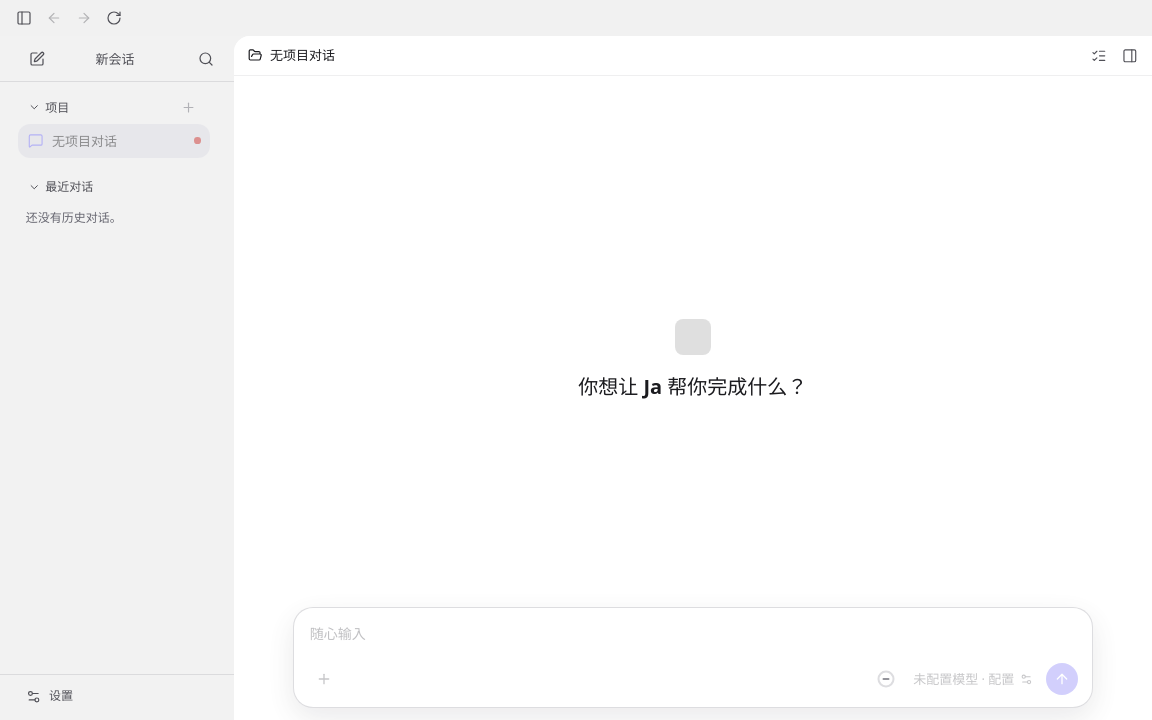
Scenario: Ja desktop shell v1 › retries a failed runtime connection from the titlebar without resuming a turn
Click the button named "重新连接" at coordinates (114, 18), box [100,4,128,32]
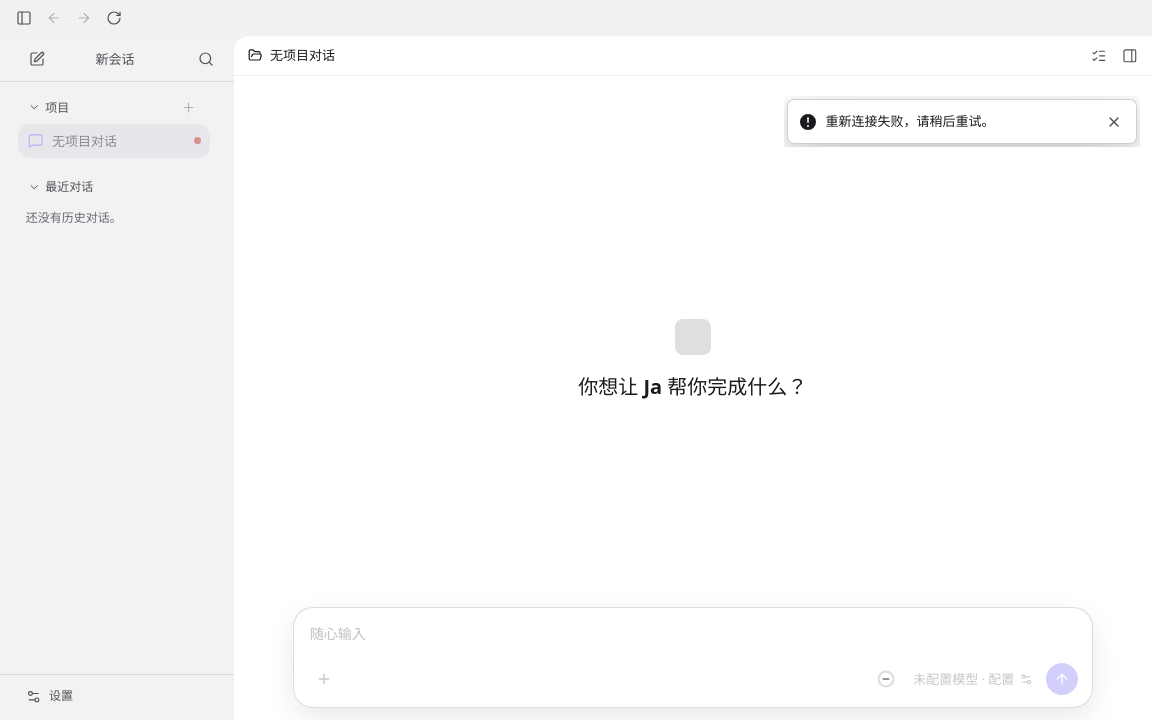
Expected: the text "重新连接失败，请稍后重试。" is shown, [825,112,994,130]
Click the button named "重新连接" at coordinates (114, 18), box [100,4,128,32]
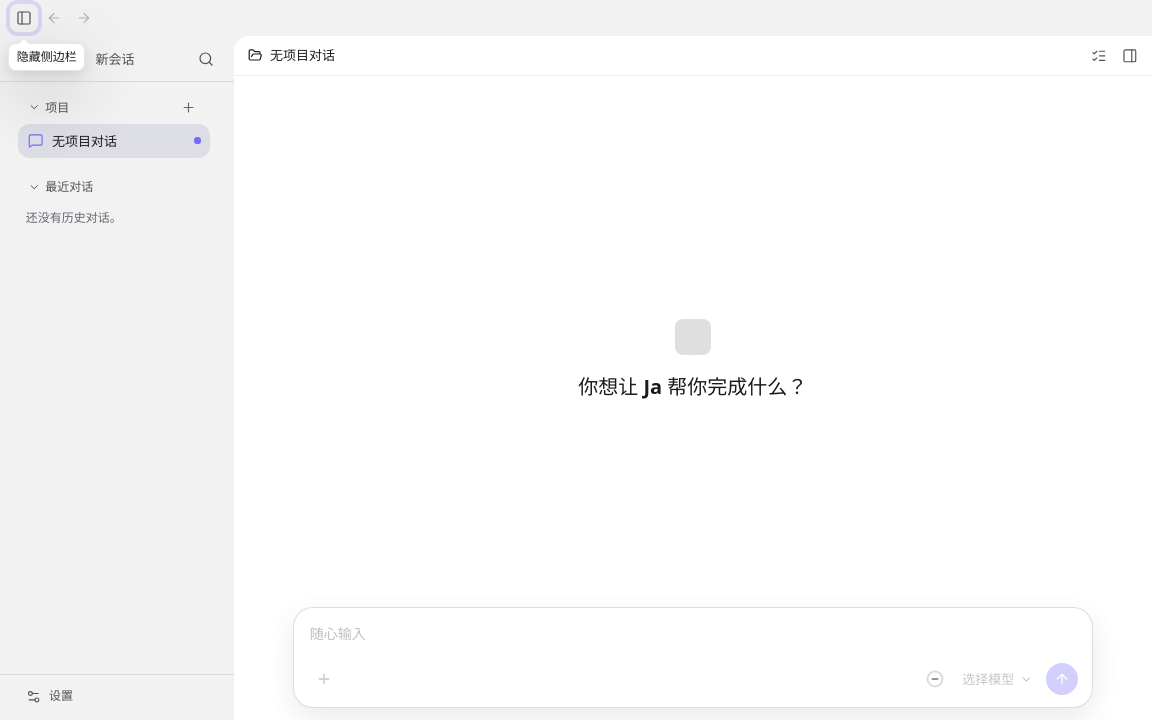
Expected: the text "重新连接" is gone
